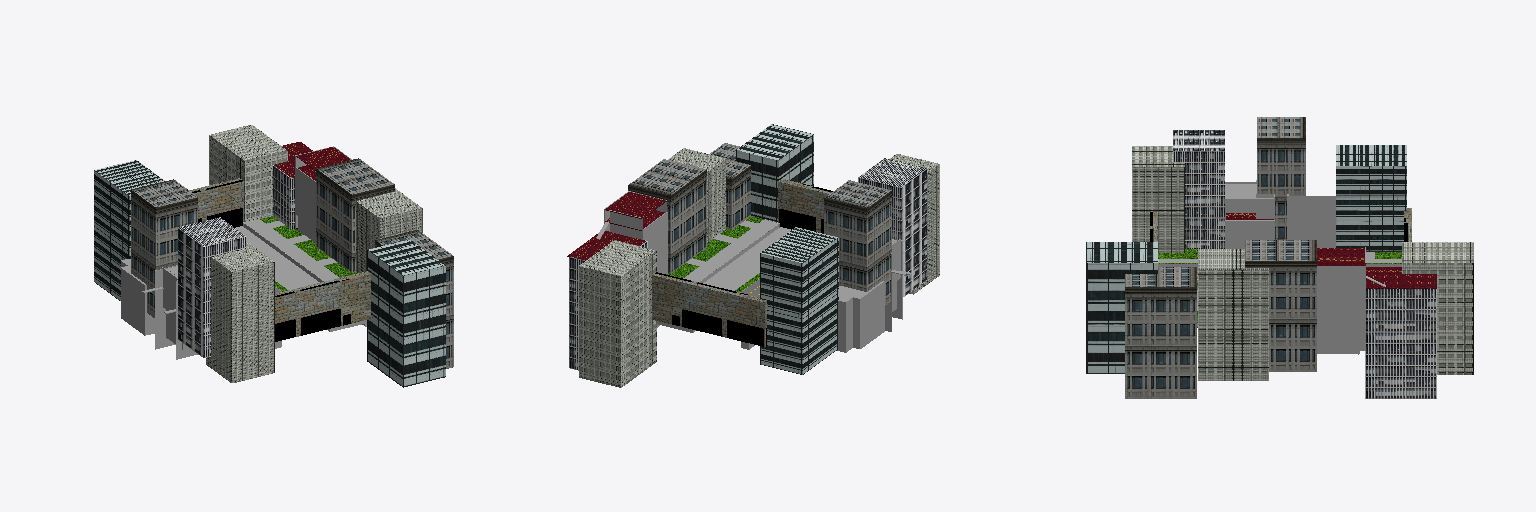
3 views of the same model, side by side, from view 1: azimuth 30°, elevation 25°; view 2: azimuth 150°, elevation 25°; view 3: azimuth 270°, elevation 25° (orthographic).
Visible parts, largest first — view 1: Box20, Box9, Box15, Box11, Box13, Box16, Box7, Box19, Box18, Box8, Box22, Box25 (+7 smaller); view 2: Box19, Box13, Box11, Box8, Box16, Box20, Box15, Box7, Box18, Box22, Box41, Box9 (+9 smaller); view 3: Box22, Box18, Box21, Box13, Box16, Box20, Box19, Box15, Box9, Box11, Box51, Box40 (+5 smaller).
Boxes of the visible parts, x1,y1,x2,y2 form: Box20: [367, 240, 445, 387]; Box9: [206, 243, 274, 382]; Box15: [178, 217, 245, 357]; Box11: [131, 179, 197, 317]; Box13: [94, 160, 164, 300]; Box16: [316, 158, 394, 272]; Box7: [275, 271, 370, 341]; Box19: [209, 125, 287, 222]; Box18: [356, 188, 422, 272]; Box8: [189, 178, 243, 227]; Box22: [375, 230, 453, 368]; Box25: [244, 219, 366, 326]; Box19: [579, 240, 656, 387]; Box13: [760, 227, 838, 374]; Box11: [824, 180, 891, 306]; Box8: [652, 272, 766, 346]; Box16: [628, 159, 706, 273]; Box20: [736, 124, 813, 221]; Box15: [858, 158, 926, 296]; Box7: [778, 179, 832, 233]; Box18: [668, 148, 725, 242]; Box22: [710, 143, 750, 229]; Box41: [839, 281, 884, 348]; Box9: [890, 154, 939, 294]; Box22: [1125, 267, 1196, 398]; Box18: [1198, 249, 1268, 380]; Box21: [1365, 289, 1436, 398]; Box13: [1336, 145, 1406, 251]; Box16: [1245, 240, 1316, 371]; Box20: [1086, 242, 1157, 373]; Box19: [1402, 242, 1473, 374]; Box15: [1173, 130, 1224, 248]; Box9: [1132, 146, 1184, 252]; Box11: [1257, 117, 1305, 239]; Box51: [1317, 266, 1365, 350]; Box40: [1288, 196, 1335, 247].
Size of the model in its own units: 35.29 by 22.65 by 47.15.
Materials: 12 (9 with a texture image).